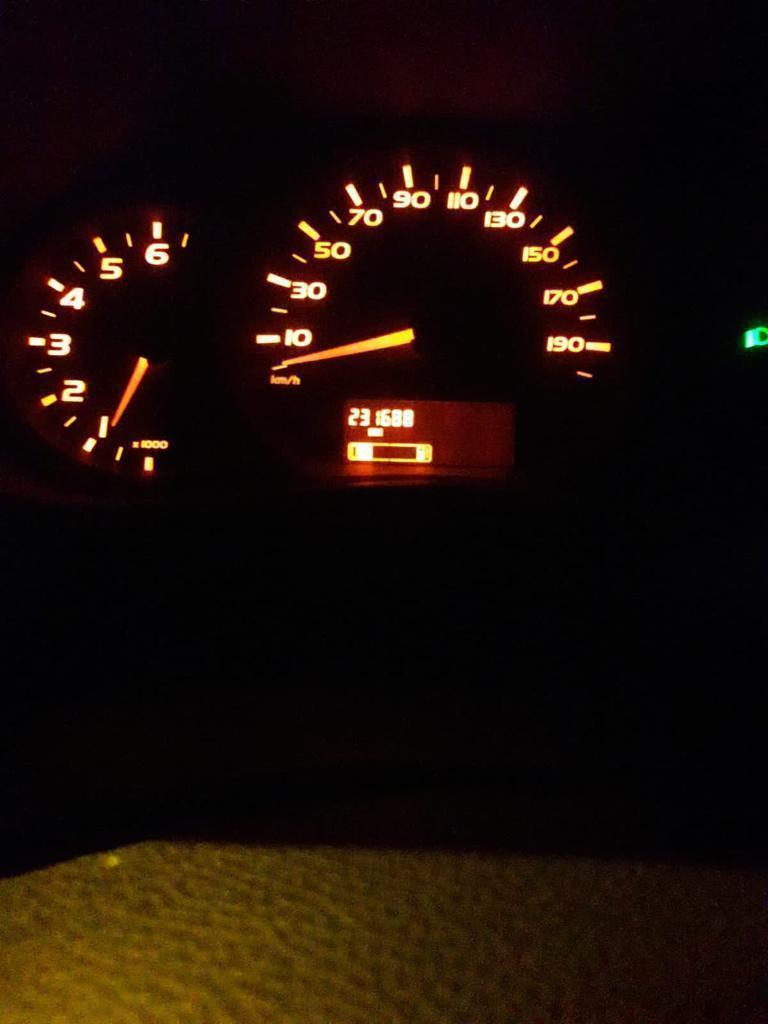1: (373, 407, 380, 427)
2: (346, 405, 359, 427)
3: (360, 407, 371, 426)
6: (381, 407, 391, 426)
8: (403, 406, 414, 429), (392, 407, 401, 427)
odometer: (341, 397, 516, 473)
